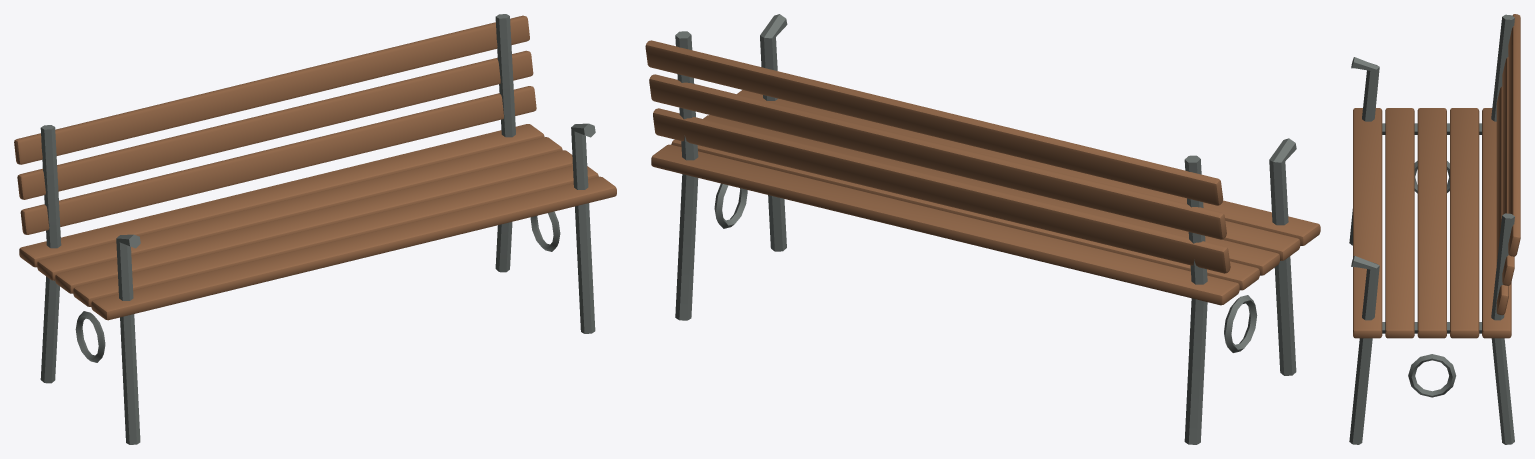
File: bench-garden.glb
The picture shows the model from 3 angles, left to right: view 1: azimuth 30°, elevation 25°; view 2: azimuth 150°, elevation 25°; view 3: azimuth 270°, elevation 25°; orthographic projection. The views are drawn at different scales.
Visible parts, largest first — view 1: bench-garden; view 2: bench-garden; view 3: bench-garden.
Part boxes in pixels (x1=…): bench-garden: x1=14, y1=14, x2=616, y2=444; bench-garden: x1=645, y1=14, x2=1320, y2=444; bench-garden: x1=1349, y1=14, x2=1520, y2=444.
Bounding box in the file's own units: 1.8 × 0.8541 × 0.5828.
